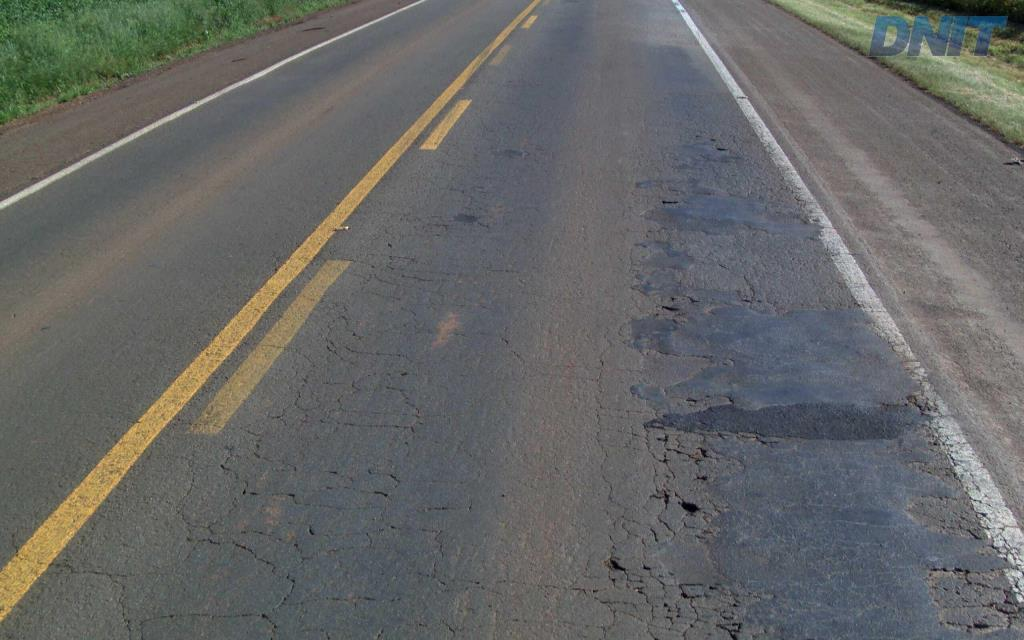crack: (656, 425, 776, 466), (603, 534, 649, 603)
